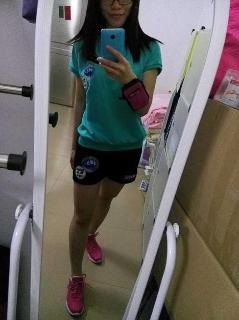short sleeve top: (69, 31, 163, 151)
shorts: (73, 128, 144, 186)
